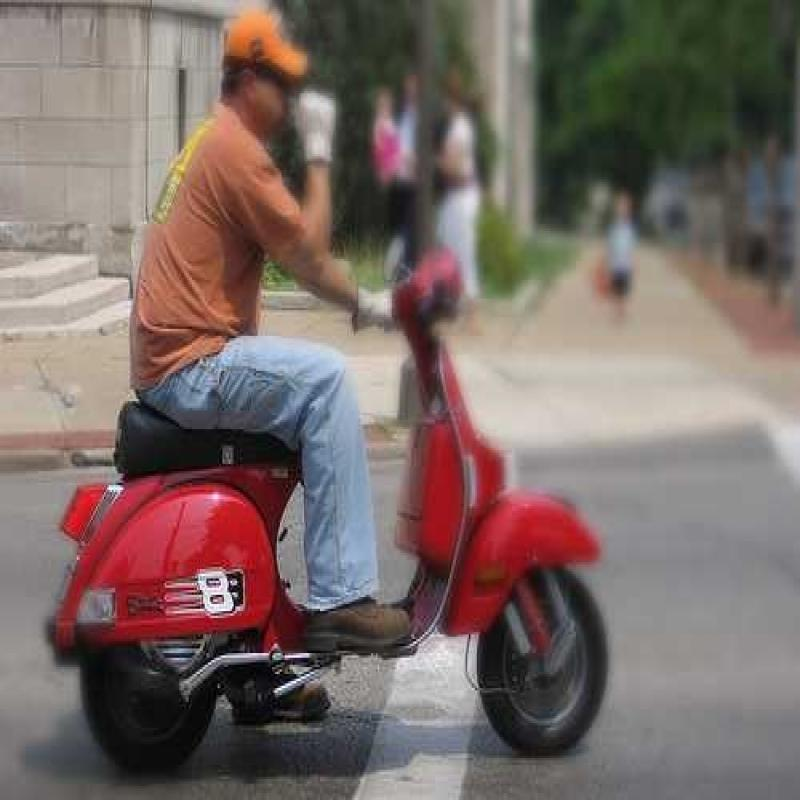bike: (82, 253, 615, 771)
